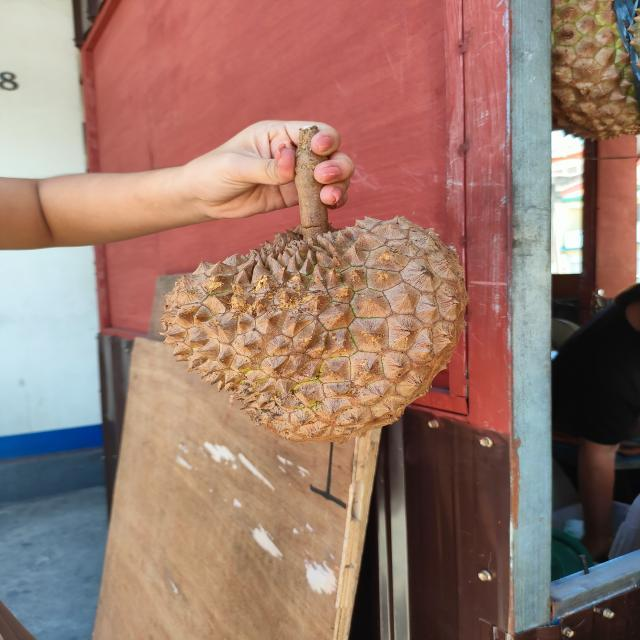mature: (157, 215, 469, 445)
